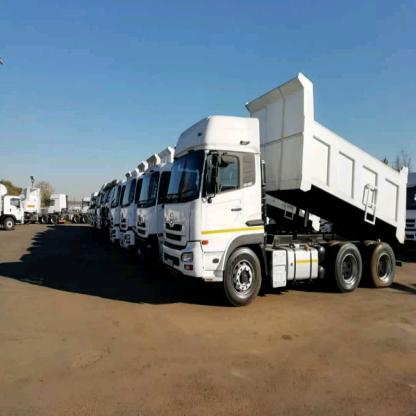dump_truck: (168, 63, 399, 314), (125, 143, 194, 272)
